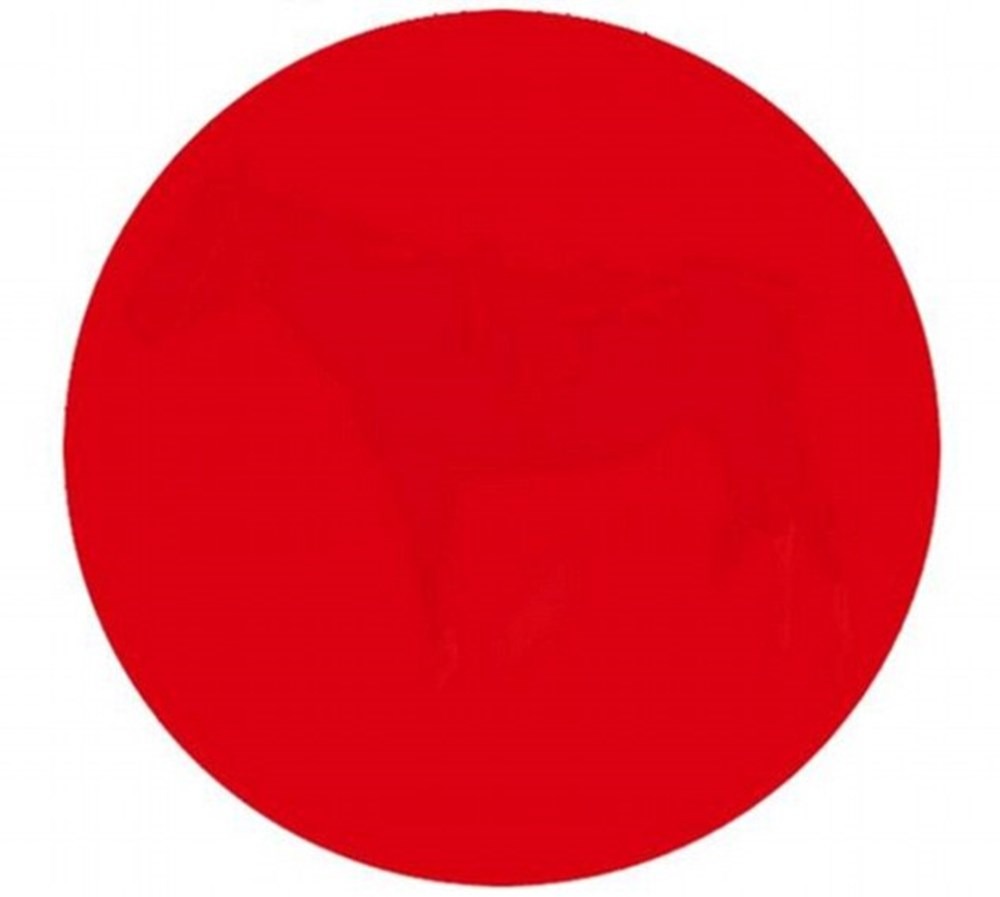su birakma alani: (65, 7, 940, 889)
